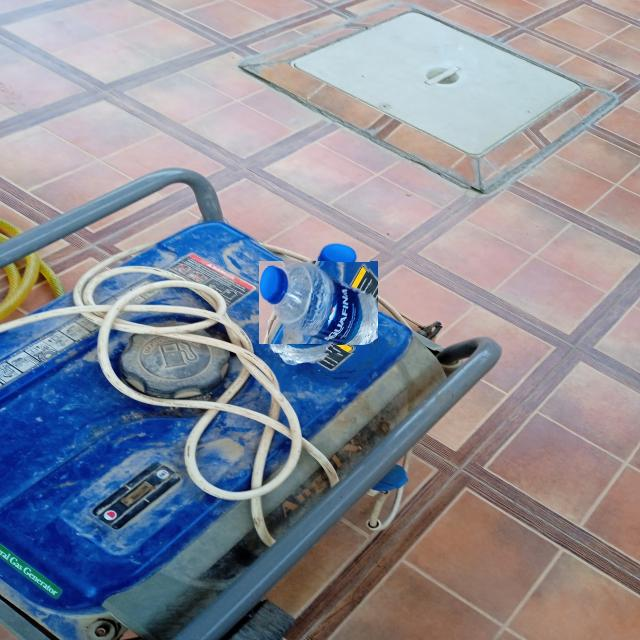Plastic: (268, 252, 370, 353)
